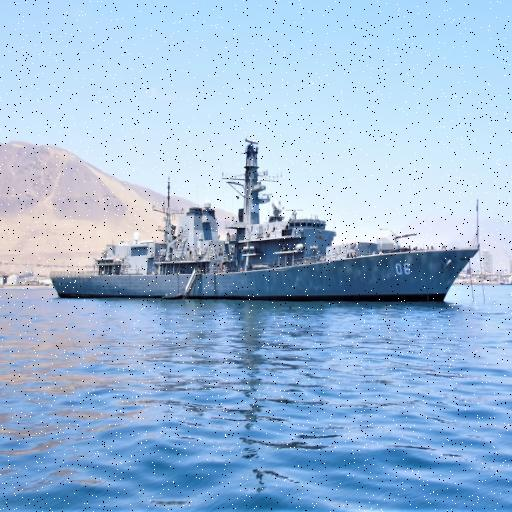Fragata: (51, 136, 487, 310)
